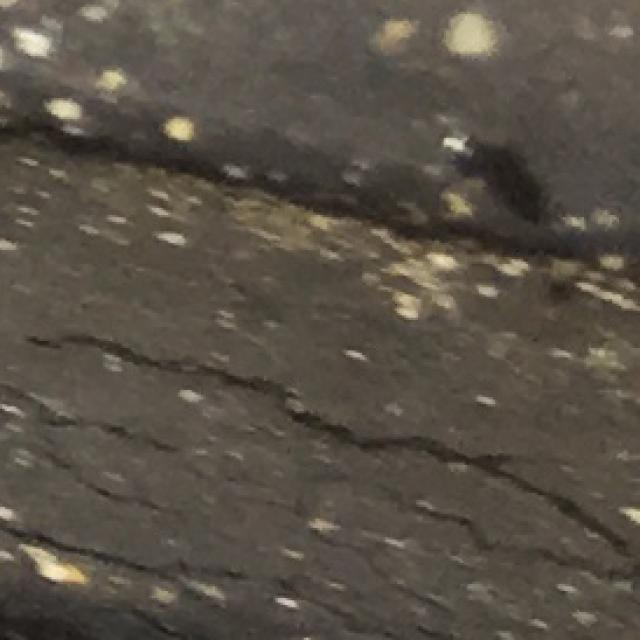Cracks: (0, 231, 640, 638)
